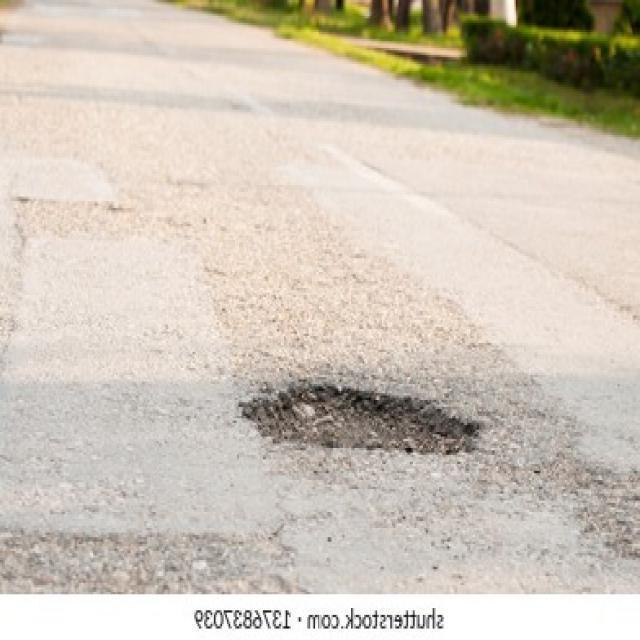pothole: (239, 382, 479, 453)
